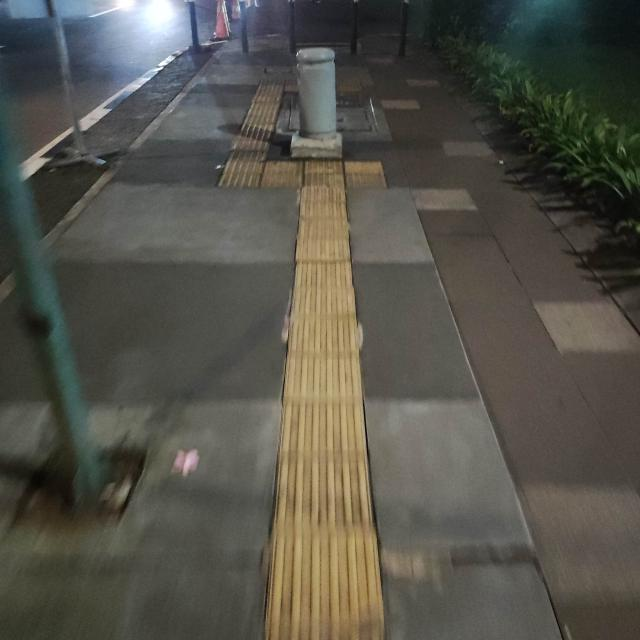lurus: (276, 172, 386, 636)
